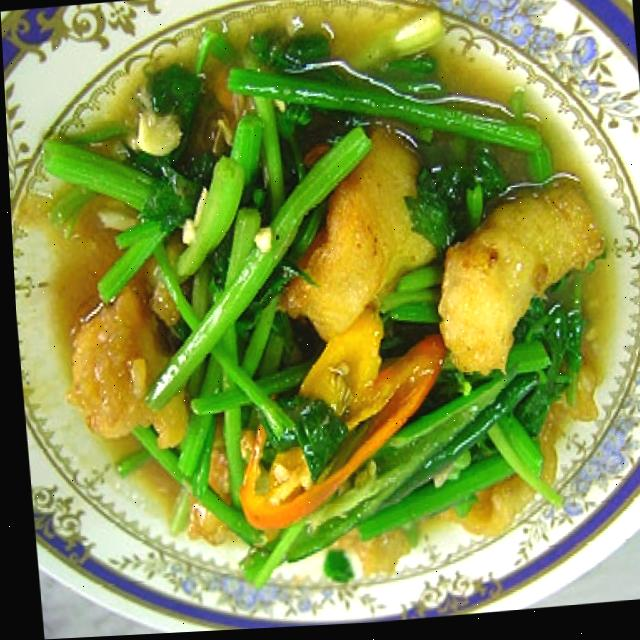牛肉菜式: (6, 0, 640, 626)
